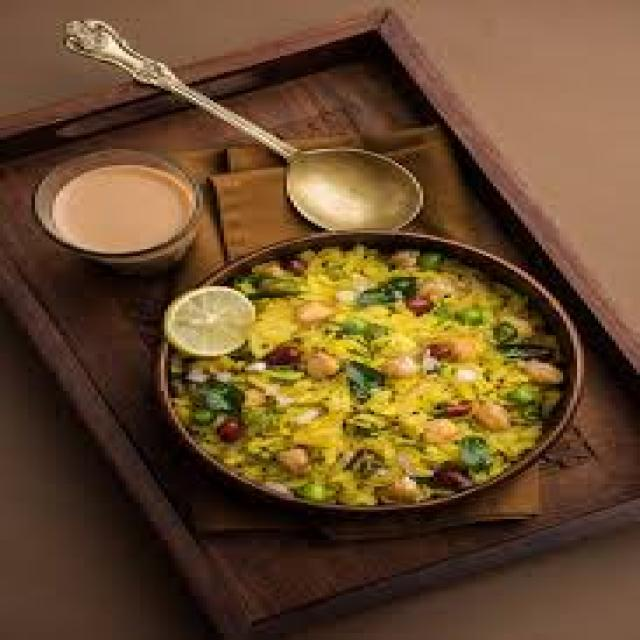POHA: (172, 250, 567, 501)
